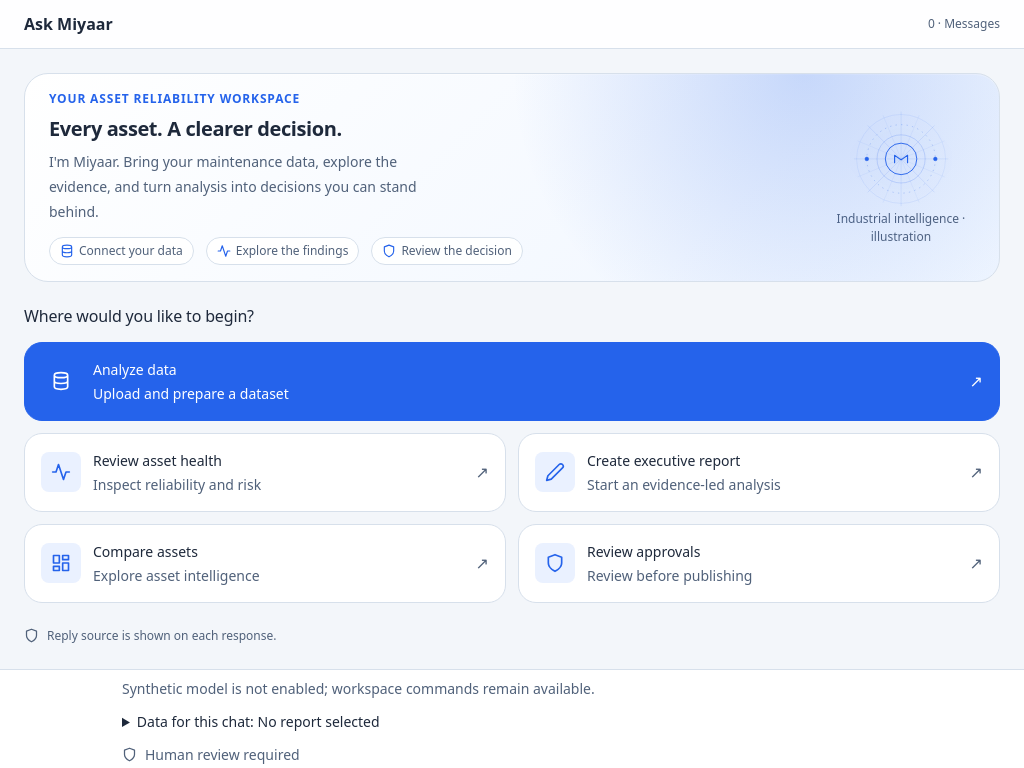
Test case: keeps a collapsed report disclosure and actual model notice beside the composer
Check: the text "Synthetic model is not enabled; workspace commands remain available." is shown, box [122,679,595,698]
Click the heading "Data for this chat: No report selected".
click(258, 721)  # box [137,712,380,731]
(page scrolled)
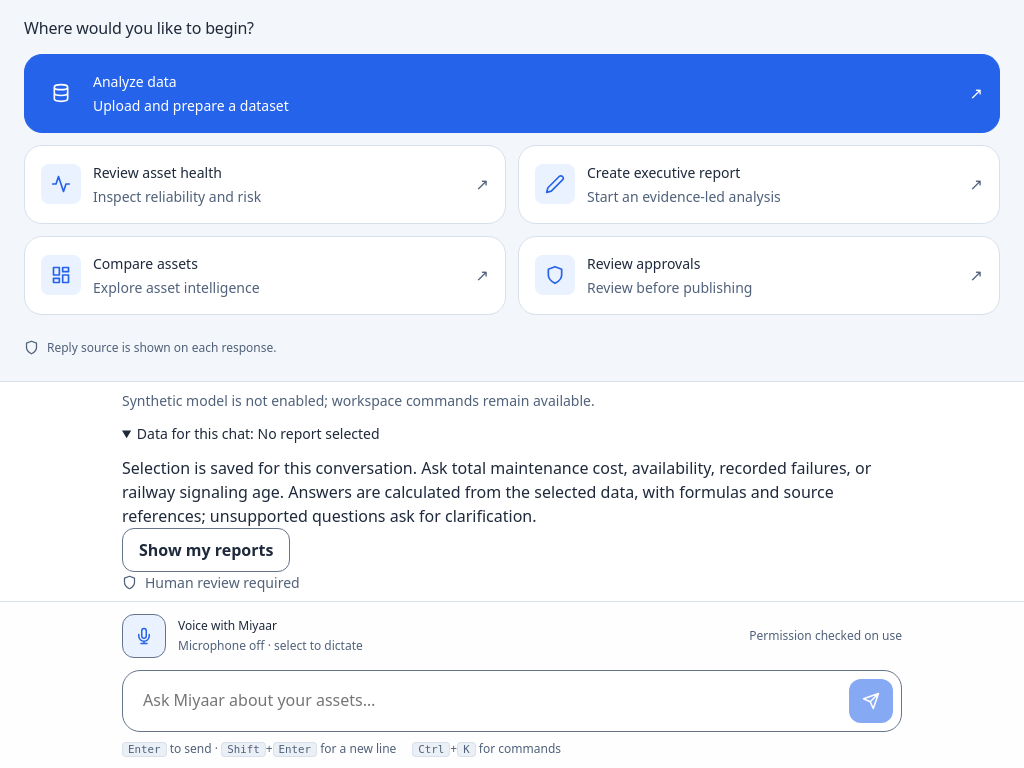
Check: the number of elements with class "tool-cards" is 1, box [122,411,902,572]
Check: the button "Show my reports" is enabled, box [122,528,290,572]
